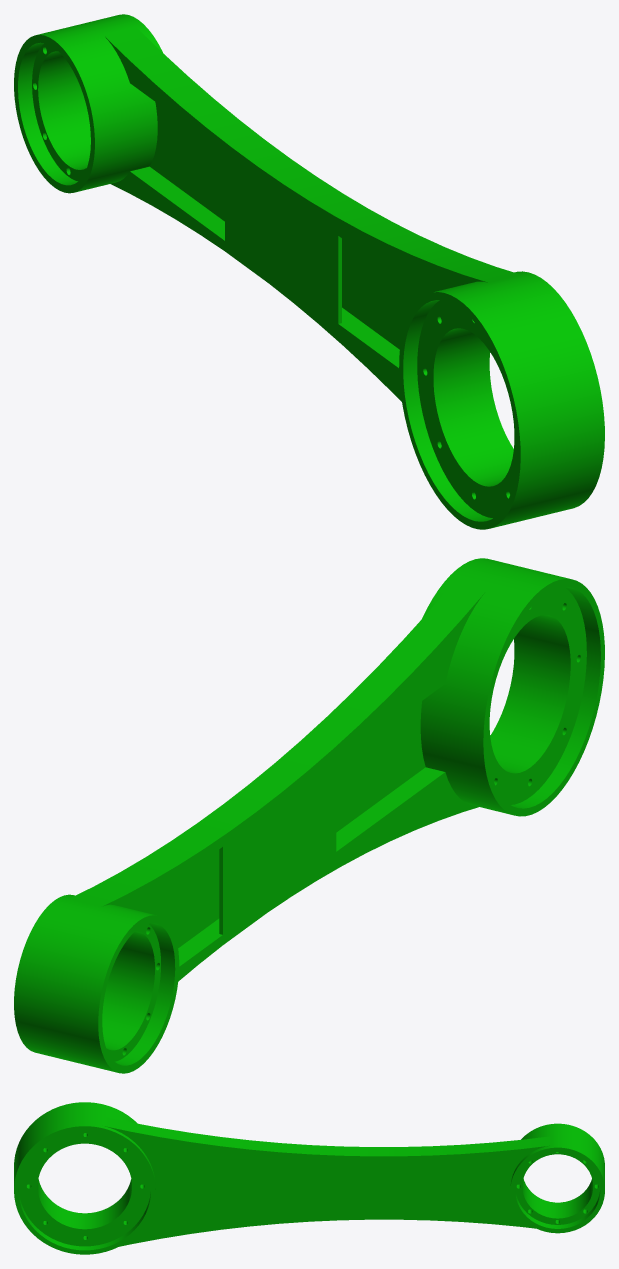
File: Arm01.dae
3 renders of one model, top to bottom at view 1: azimuth 30°, elevation 25°; view 2: azimuth 150°, elevation 25°; view 3: azimuth 270°, elevation 25°, orthographic. The views are drawn at different scales.
Visible parts, largest first — view 1: Arm01; view 2: Arm01; view 3: Arm01.
Boxes of the visible parts, x1,y1,x2,y2 form: Arm01: [14, 14, 604, 529]; Arm01: [14, 558, 604, 1073]; Arm01: [14, 1102, 604, 1254].
Size of the model in its own units: 0.12 by 1.25 by 0.2998.
